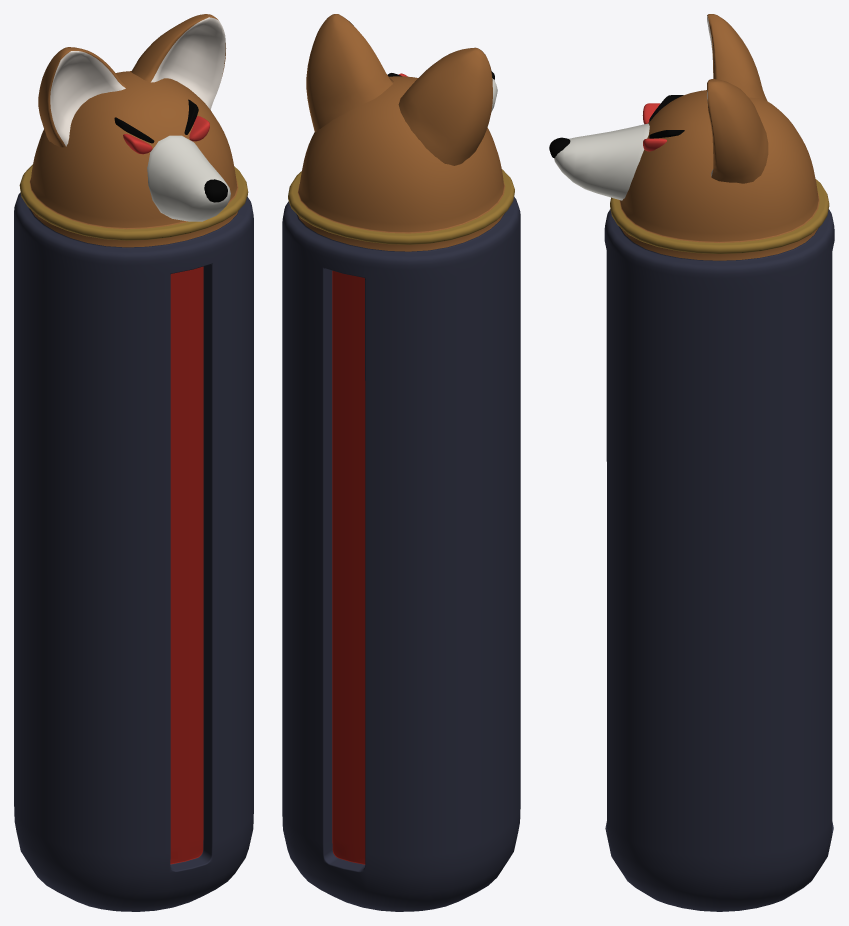
File: SM_Bouncer_01.fbx
3 renders of one model, left to right at view 1: azimuth 30°, elevation 25°; view 2: azimuth 150°, elevation 25°; view 3: azimuth 270°, elevation 25°, orthographic. The views are drawn at different scales.
Visible parts, largest first — view 1: SM_Bouncer_01; view 2: SM_Bouncer_01; view 3: SM_Bouncer_01.
Boxes of the visible parts, <box> form: SM_Bouncer_01: <box>14,14,253,911</box>; SM_Bouncer_01: <box>282,14,520,911</box>; SM_Bouncer_01: <box>549,14,834,911</box>.
Size of the model in its own units: 76.1 by 308 by 94.37.
